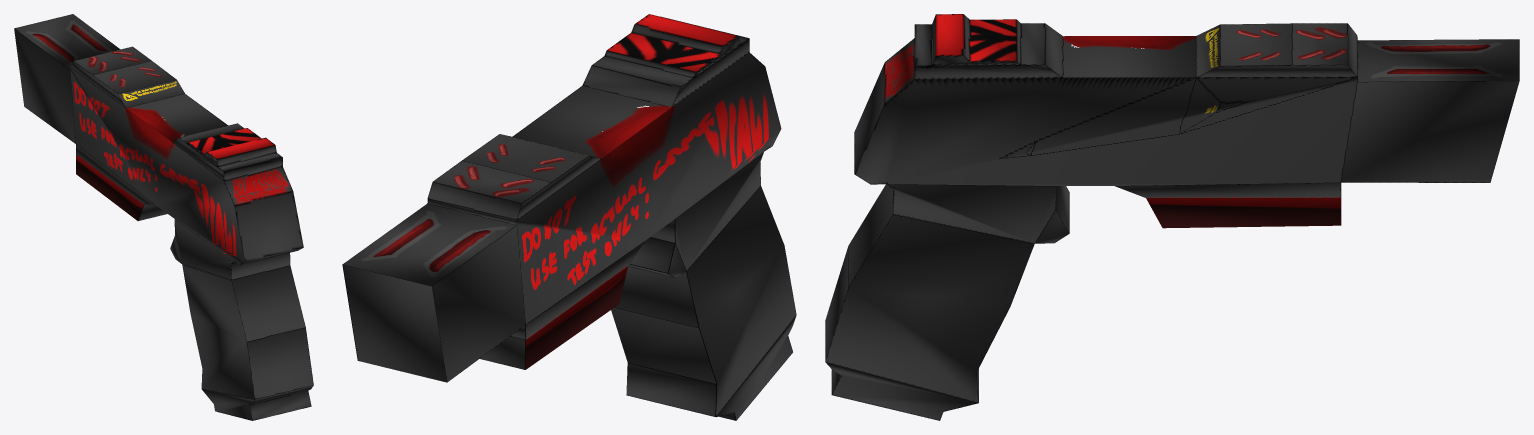
The model's file is gunPrototype.fbx.
The picture shows the model from 3 angles, left to right: view 1: azimuth 30°, elevation 25°; view 2: azimuth 150°, elevation 25°; view 3: azimuth 270°, elevation 25°; orthographic projection. The views are drawn at different scales.
Parts seen in each view (by area): view 1: Cube; view 2: Cube; view 3: Cube.
Boxes of the visible parts, x1,y1,x2,y2 form: Cube: (14, 14, 313, 420); Cube: (342, 14, 796, 420); Cube: (825, 14, 1519, 420).
Size of the model in its own units: 1726 by 245 by 1003.
1 material, 1 textured.
